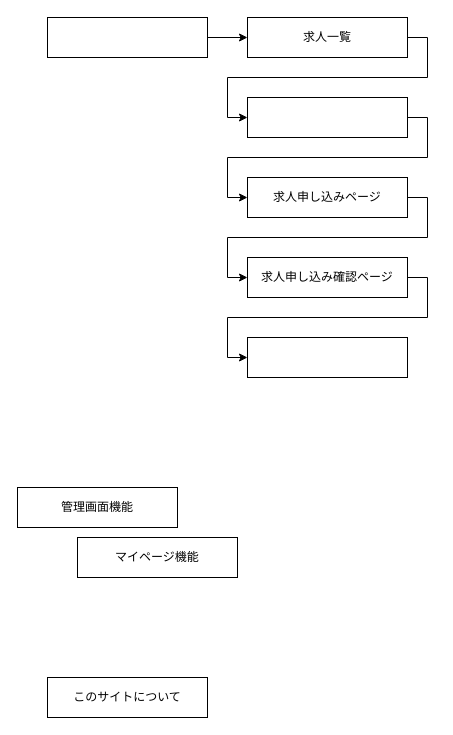
This 453x735 diagram has some shape labels left out. The centre of each missing label's shape, as x and y in pixels:
検索機能: (x=127, y=37)
求人申し込み完了ページ: (x=327, y=357)
求人詳細: (x=327, y=117)
